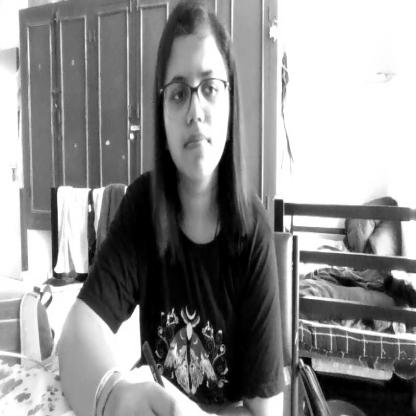Normal: (156, 1, 233, 189)
